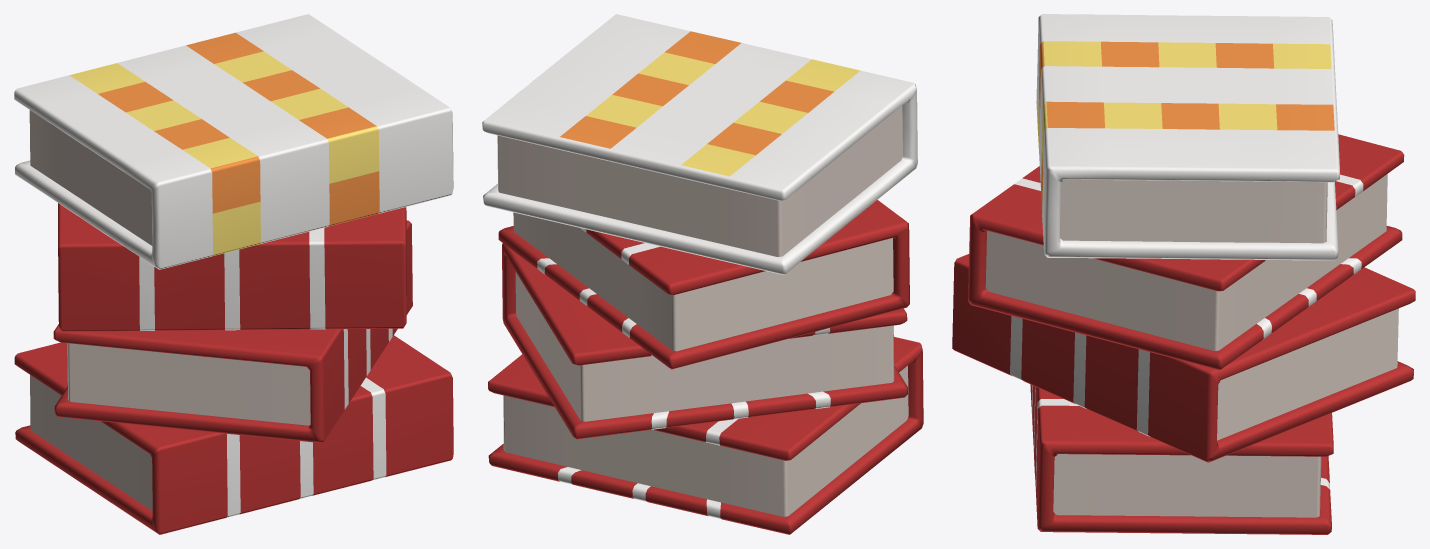
Rendered from Book_2.glb.
The picture shows the model from 3 angles, left to right: view 1: azimuth 30°, elevation 25°; view 2: azimuth 150°, elevation 25°; view 3: azimuth 270°, elevation 25°; orthographic projection. The views are drawn at different scales.
Visible parts, largest first — view 1: Books_8; view 2: Books_8; view 3: Books_8.
Boxes of the visible parts, x1,y1,x2,y2 form: Books_8: [14, 14, 453, 534]; Books_8: [482, 14, 923, 534]; Books_8: [952, 14, 1415, 534].
Bounding box in the file's own units: 0.3954 × 0.3527 × 0.397.
Materials: 1 (1 with a texture image).
